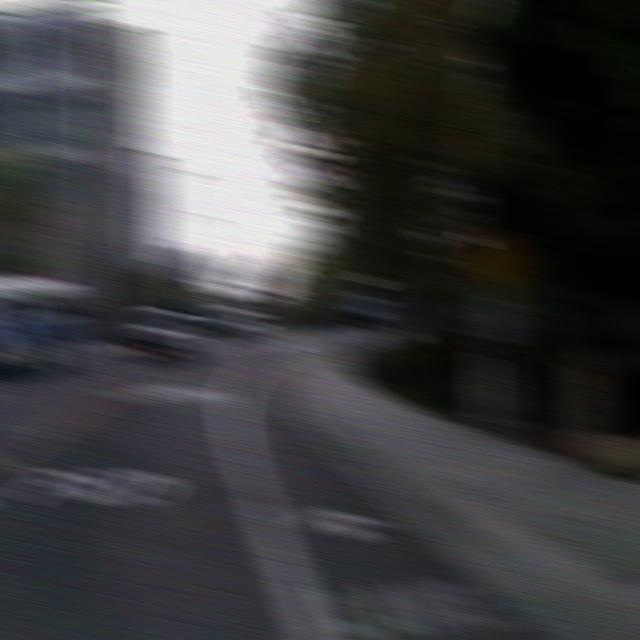pedestrianCrossing: (465, 224, 529, 295)
